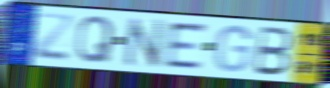B: (251, 24, 295, 78)
E: (165, 21, 208, 70)
G: (213, 24, 254, 74)
N: (123, 15, 166, 69)
Q: (74, 14, 117, 65)
Z: (32, 11, 76, 63)
